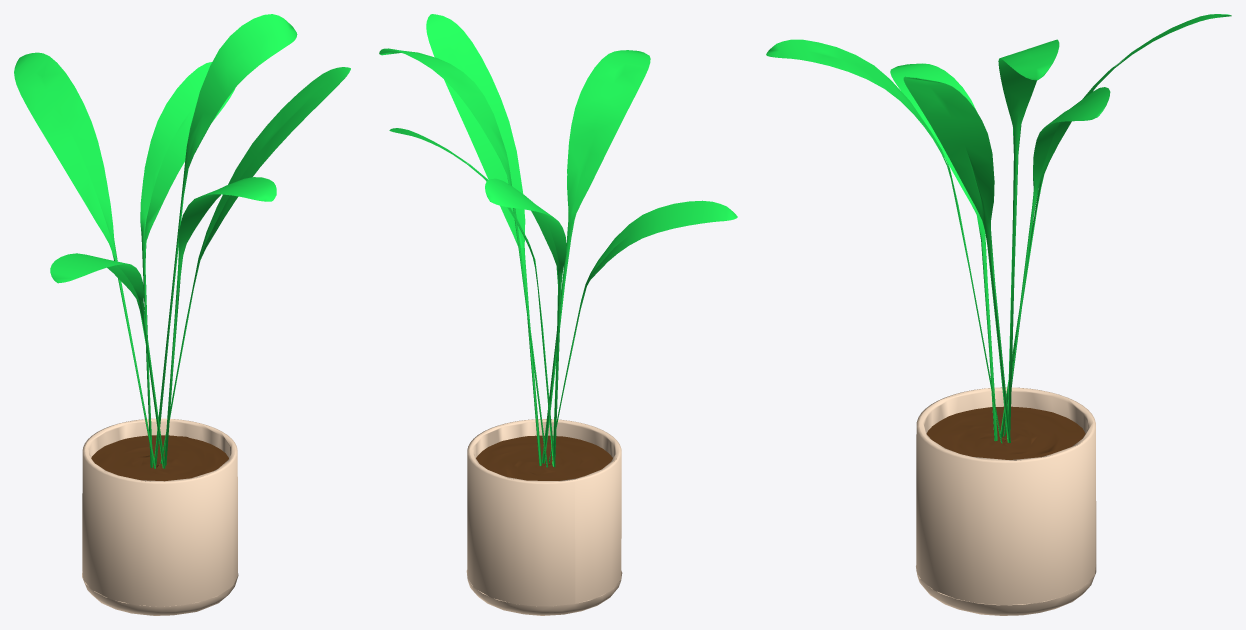
File: flower1.glb
The picture shows the model from 3 angles, left to right: view 1: azimuth 30°, elevation 25°; view 2: azimuth 150°, elevation 25°; view 3: azimuth 270°, elevation 25°; orthographic projection. The views are drawn at different scales.
Parts seen in each view (by area): view 1: Plane_2; view 2: Plane_2; view 3: Plane_2.
Boxes of the visible parts, x1=… form: Plane_2: x1=14, y1=14, x2=350, y2=615; Plane_2: x1=379, y1=14, x2=737, y2=615; Plane_2: x1=766, y1=14, x2=1231, y2=615.
Bounding box in the file's own units: 0.7918 × 1.32 × 0.9156.
